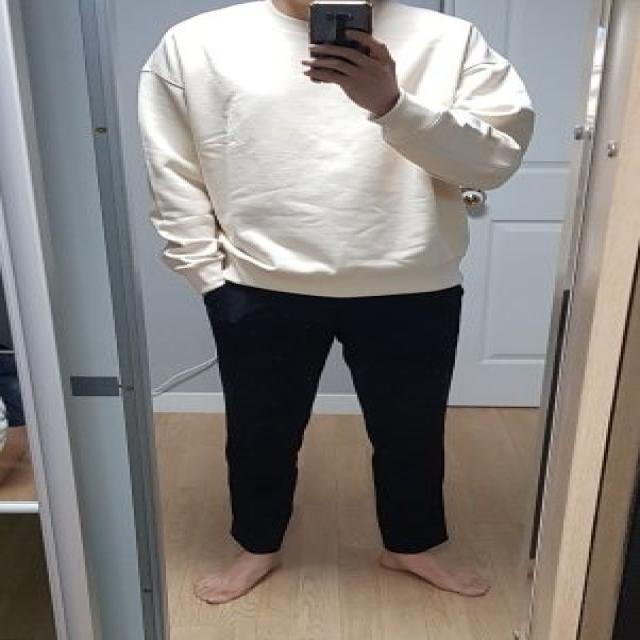mtm: (142, 0, 538, 296)
slacks: (202, 279, 460, 558)
